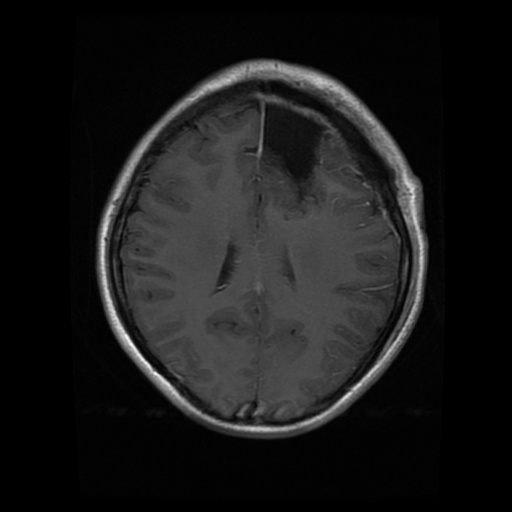glioma: (241, 102, 329, 220)
